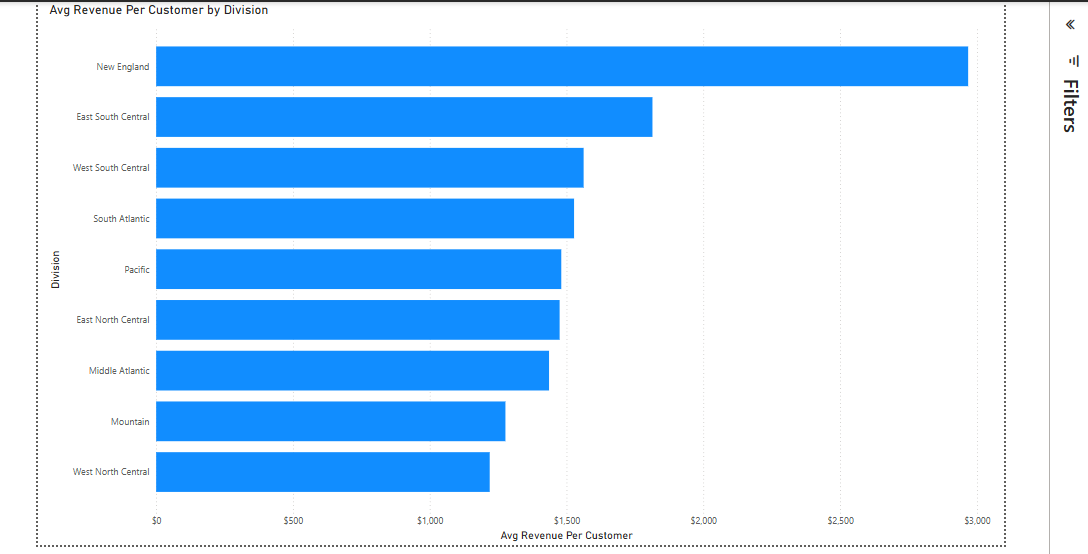

What the dashboard file says about the page in this screenshot:
{"tool":"powerbi","page":{"name":"Avg Revenue Per Customer","canvas":[1280,720],"ordinal":2},"visuals":[{"type":"clusteredBarChart","fields":{"Y":["Payments.Avg Revenue Per Customer"],"Category":["States.Division","States.StateName"]},"box":[9.5,0,1257.2,720],"z":0}]}

Visuals, with their boxes on the page's 1280x720 design canvas (x1, y1, x2, y2). These are canvas units, not pixel positions in the 1088x554 screenshot, which may show the page scaled, cropped or inside an application window:
clusteredBarChart - Payments.Avg Revenue Per Customer x States.Division: [10, 0, 1267, 720]
